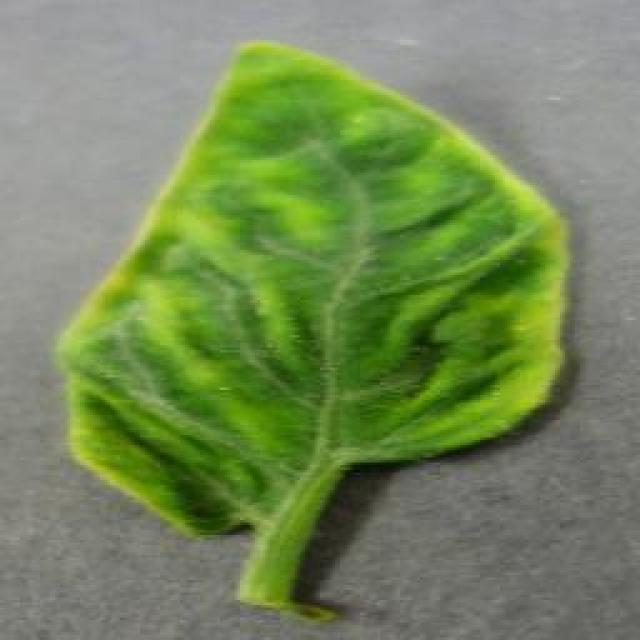Tomato yellow virus leaf: (54, 34, 571, 531)
